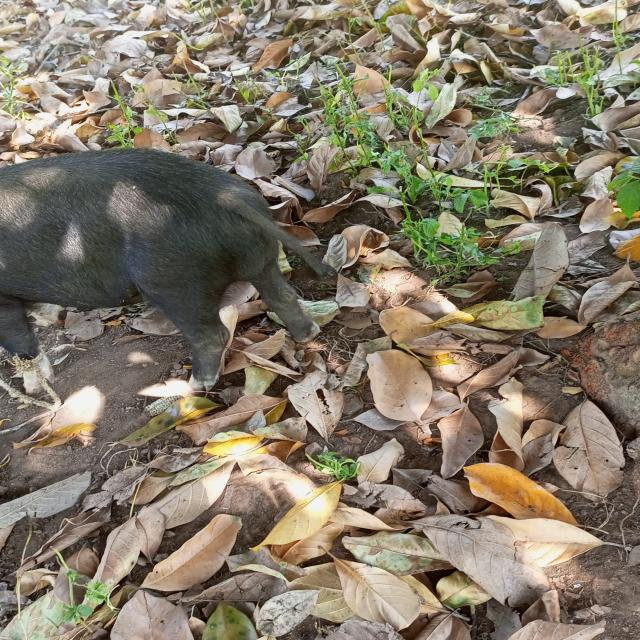pig: (0, 121, 361, 455)
